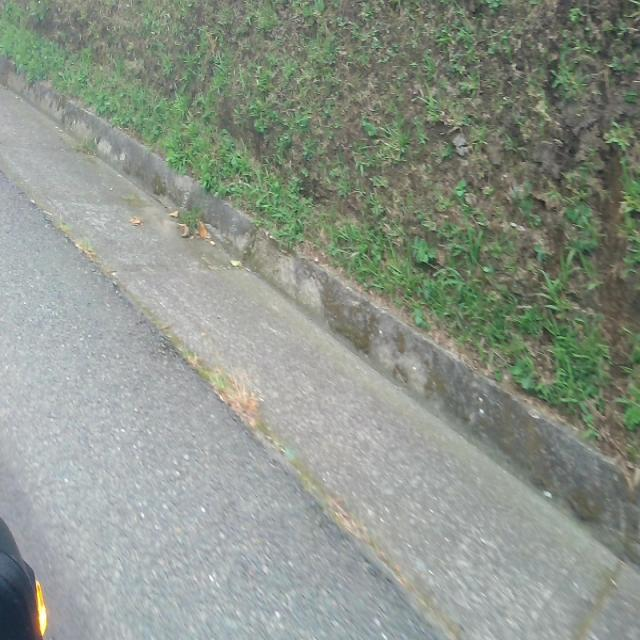DITCH: (1, 61, 638, 638)
